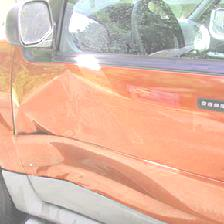door_dent: (20, 77, 108, 172)
